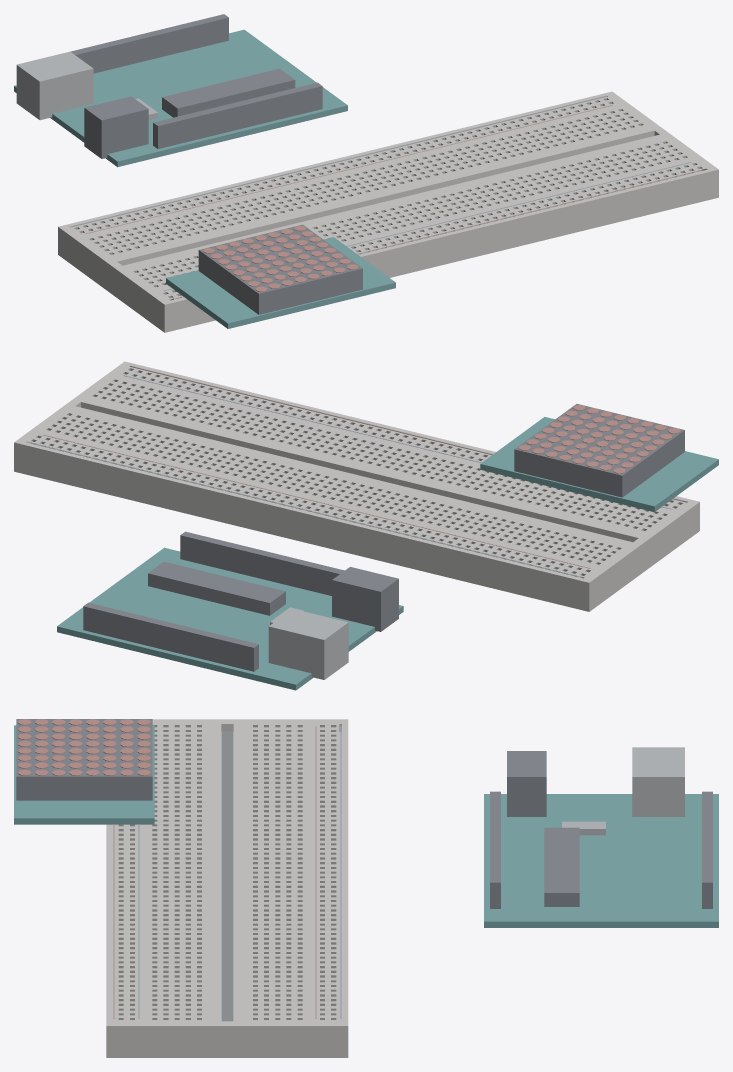
File: step-2.glb
3 views of the same model, one above another, from view 1: azimuth 30°, elevation 25°; view 2: azimuth 150°, elevation 25°; view 3: azimuth 270°, elevation 25° (orthographic). The views are drawn at different scales.
Visible parts, largest first — view 1: breadboard__mesh, uno__mesh, matrix__mesh; view 2: breadboard__mesh, uno__mesh, matrix__mesh; view 3: breadboard__mesh, uno__mesh, matrix__mesh.
Part boxes in pixels (x1,y1,x2,y2): breadboard__mesh: [58, 91, 718, 332]; uno__mesh: [14, 14, 347, 167]; matrix__mesh: [166, 224, 395, 328]; breadboard__mesh: [14, 361, 699, 611]; uno__mesh: [57, 531, 403, 690]; matrix__mesh: [480, 404, 718, 512]; breadboard__mesh: [106, 719, 348, 1057]; uno__mesh: [484, 747, 718, 927]; matrix__mesh: [14, 719, 154, 824].
Bounding box in the file's own units: 0.165 × 0.0158 × 0.1602.
